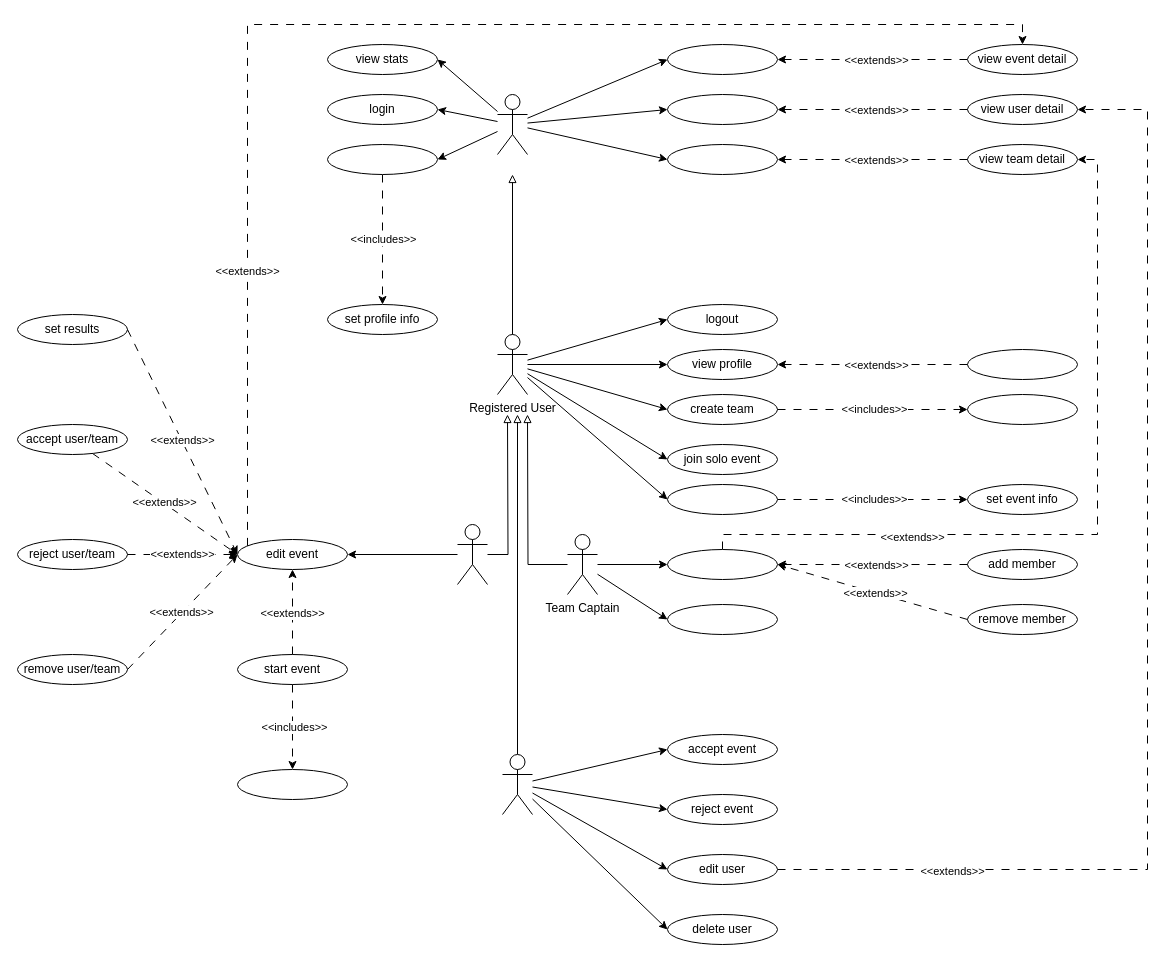
Some shapes in this 1173 by 962 pixel diagram are drawn without their labels. Here are the shapes that lost their labels. From the top down, the centre of each, then its label:
the point at 722,59: view events
the point at 512,124: User
the point at 722,109: view users
the point at 382,159: register
the point at 722,159: view teams
the point at 1022,364: edit profile
the point at 1022,409: set team info
the point at 722,499: create event
the point at 472,554: Event Leader
the point at 722,564: edit team
the point at 722,619: join team event
the point at 292,784: generate rounds
the point at 517,784: Admin
